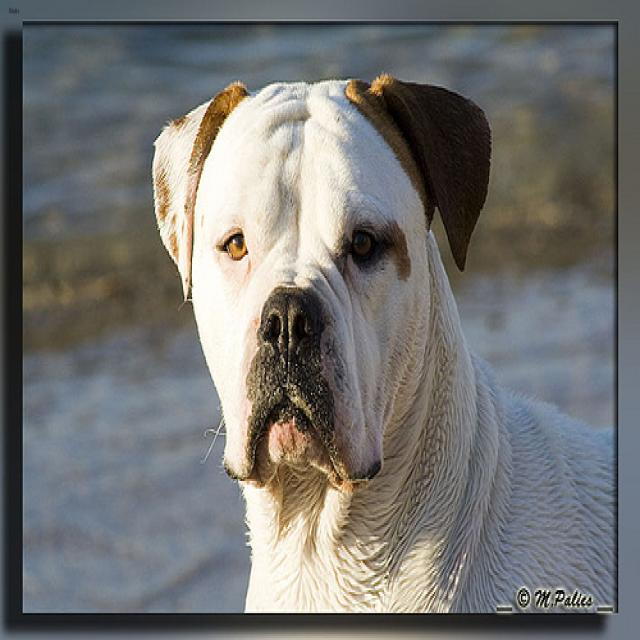dog-american_bulldog: (146, 65, 627, 627)
